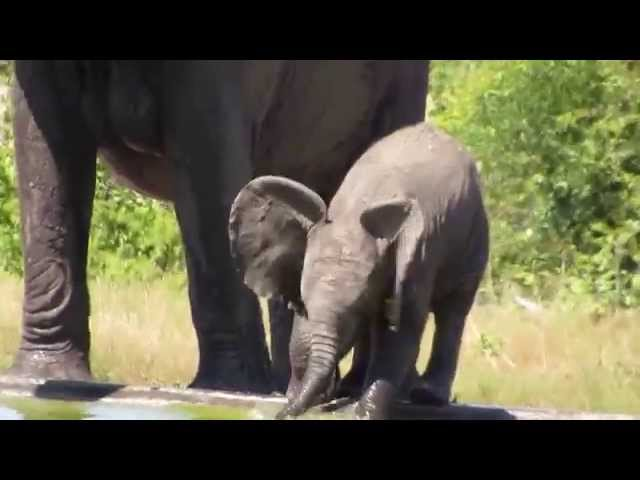elephant: (227, 111, 493, 422)
